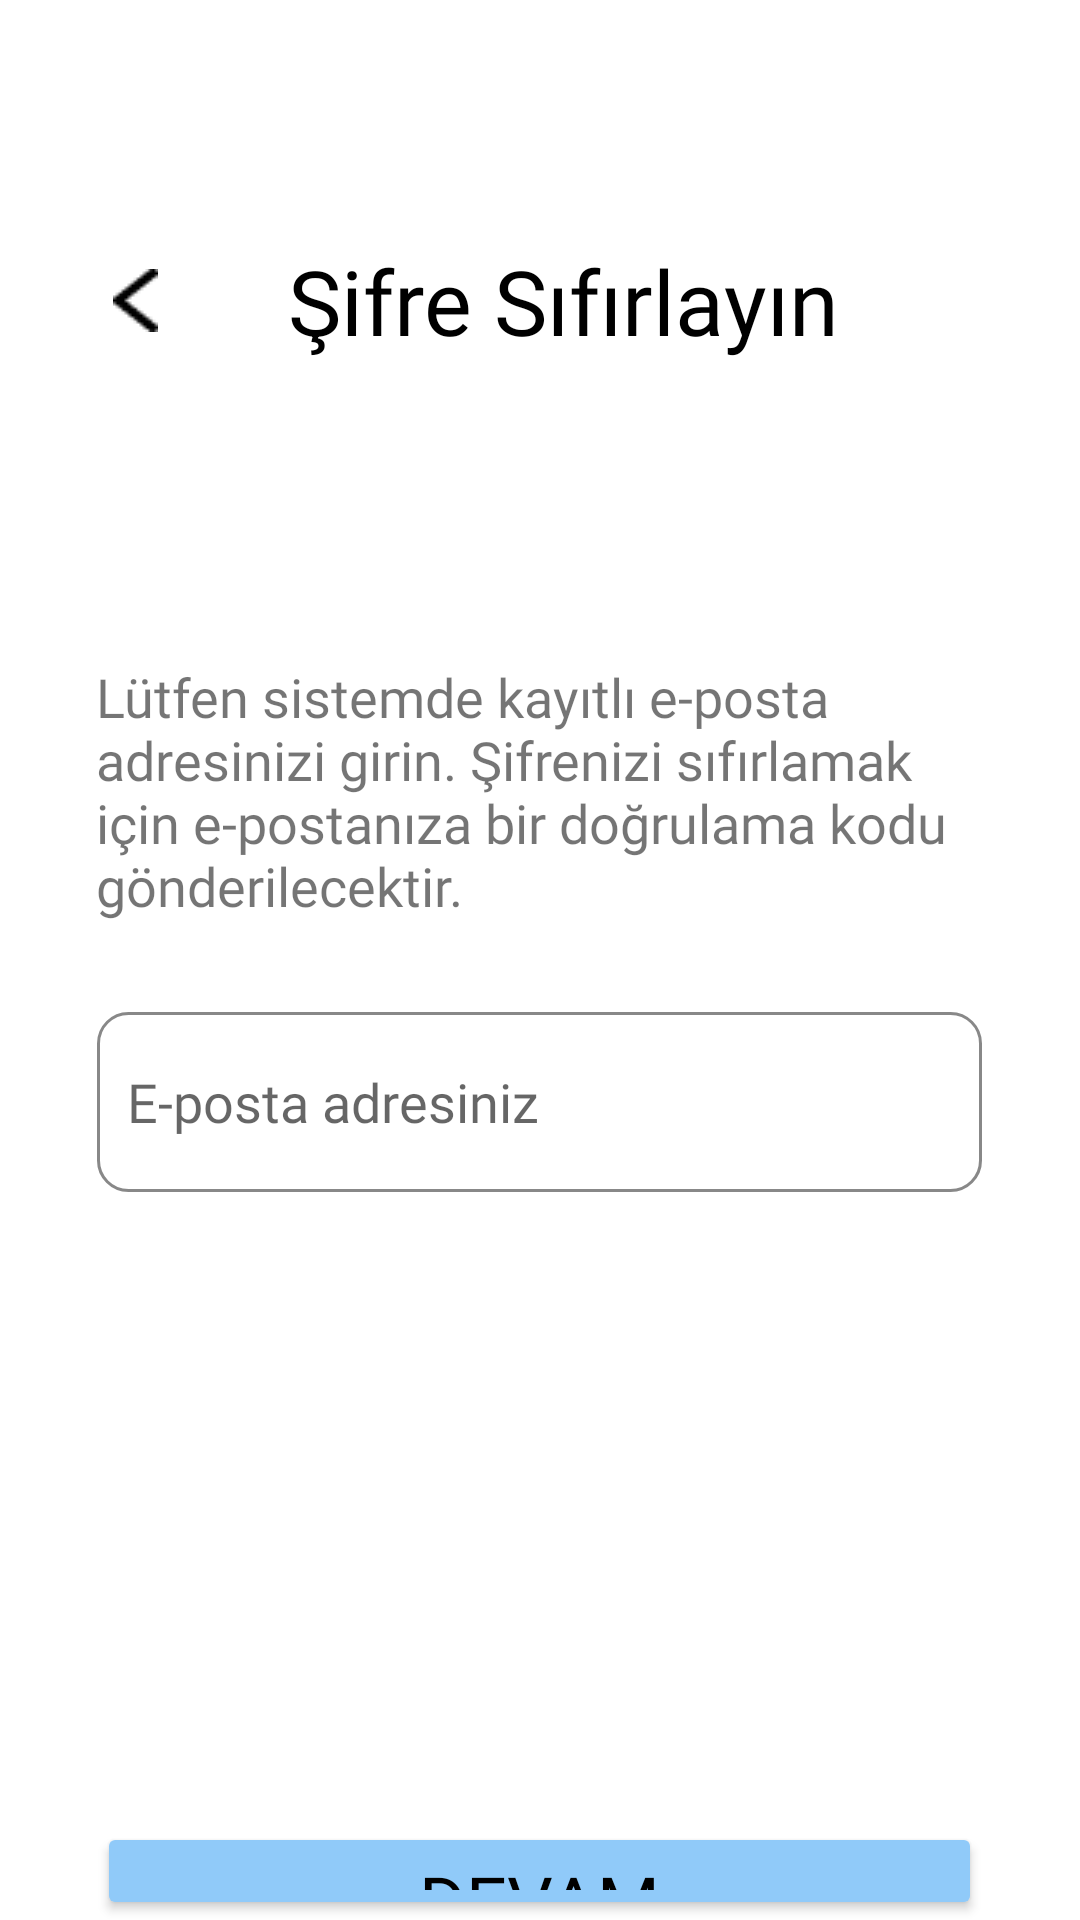

Named icons in this screenshot (1080 x 1920) and their centers, (x,y):
back: (135,300)
